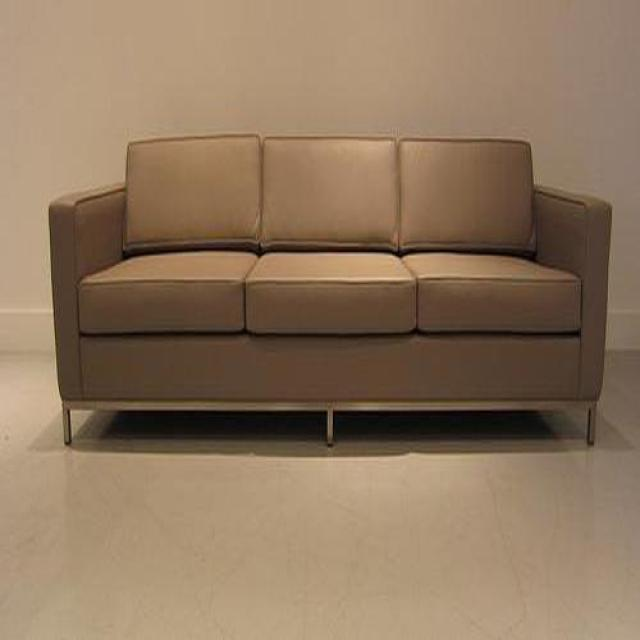sofa: (47, 134, 613, 412)
